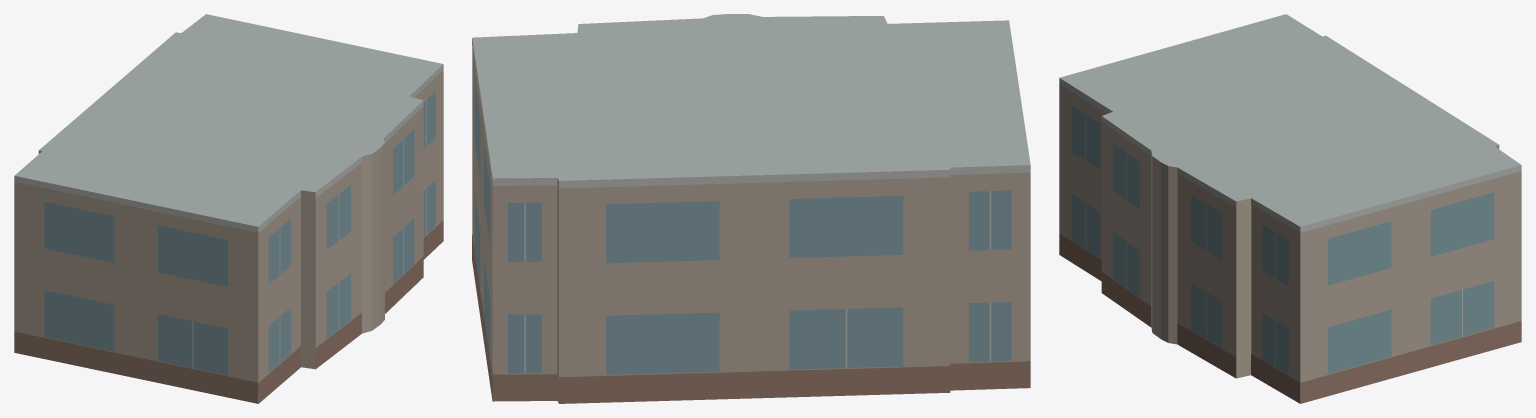
File: survey-upis-32625329.glb
3 views of the same model, side by side, from view 1: azimuth 30°, elevation 25°; view 2: azimuth 150°, elevation 25°; view 3: azimuth 270°, elevation 25° (orthographic). The views are drawn at different scales.
Parts seen in each view (by area): view 1: survey-upis-32625329.tmp; view 2: survey-upis-32625329.tmp; view 3: survey-upis-32625329.tmp.
Boxes of the visible parts, <box> form: survey-upis-32625329.tmp: <box>14,14,443,403</box>; survey-upis-32625329.tmp: <box>472,14,1030,403</box>; survey-upis-32625329.tmp: <box>1059,14,1521,403</box>.
Size of the model in its own units: 18.59 by 7.2 by 17.06.
